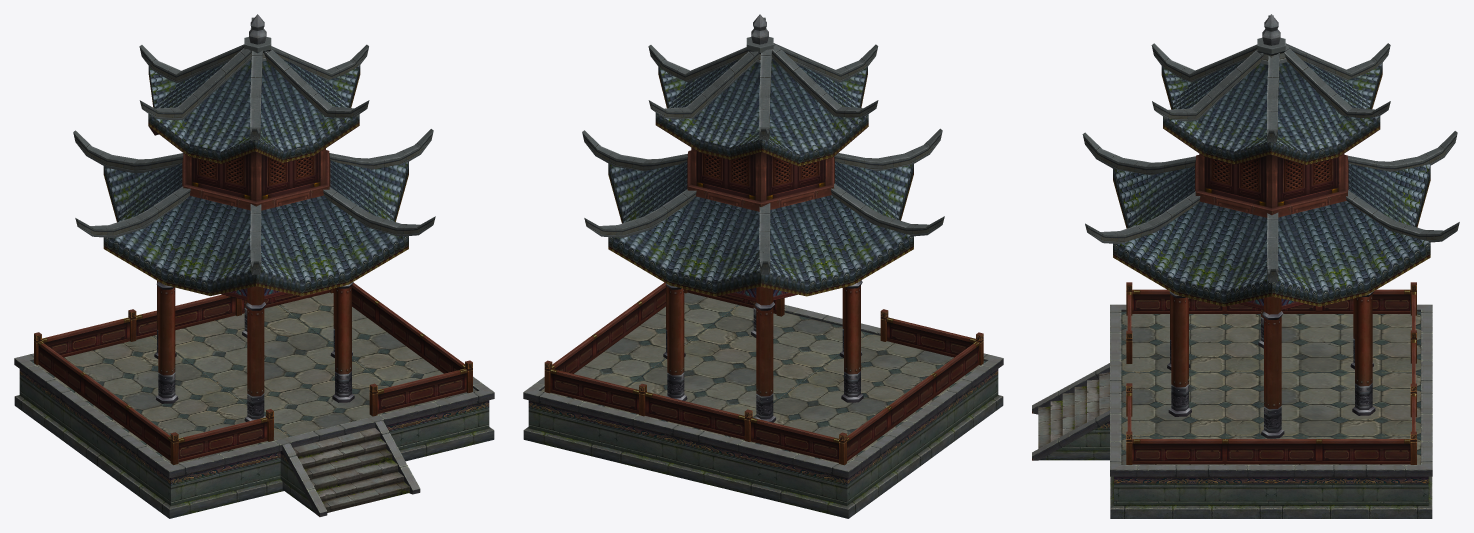
Rendered from HYC_jianzhu_05.FBX.
3 renders of one model, left to right at view 1: azimuth 30°, elevation 25°; view 2: azimuth 150°, elevation 25°; view 3: azimuth 270°, elevation 25°, orthographic. The views are drawn at different scales.
Visible parts, largest first — view 1: HYC_jianzhu_05; view 2: HYC_jianzhu_05; view 3: HYC_jianzhu_05.
Boxes of the visible parts, x1,y1,x2,y2 form: HYC_jianzhu_05: (14, 14, 494, 518); HYC_jianzhu_05: (523, 14, 1003, 518); HYC_jianzhu_05: (1032, 14, 1459, 518).
Bounding box in the file's own units: 1553 × 1689 × 1544.
